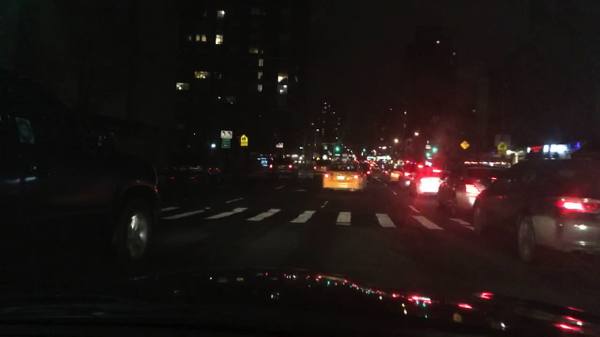car: (0, 144, 161, 297), (471, 159, 599, 267), (436, 169, 506, 220), (167, 160, 221, 191), (320, 163, 368, 195), (408, 168, 450, 197), (396, 163, 427, 191), (268, 156, 299, 179), (381, 163, 405, 182), (314, 158, 333, 177), (357, 162, 372, 184), (379, 160, 389, 170), (375, 159, 382, 169)
traffic light: (433, 146, 437, 154), (425, 152, 430, 158), (336, 146, 339, 153)
traffic sign: (496, 142, 506, 155), (240, 134, 248, 147), (220, 131, 232, 139), (460, 140, 469, 150), (222, 139, 230, 148), (275, 142, 283, 148), (425, 145, 431, 150)
